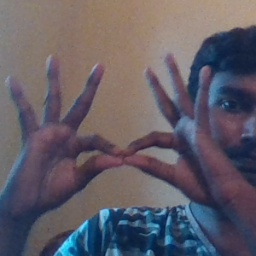B: (48, 100, 195, 193)
